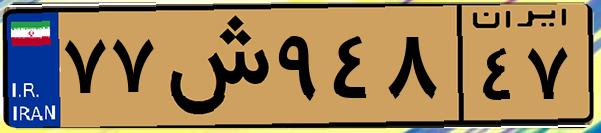4: (330, 28, 385, 110), (475, 38, 525, 113)
7: (57, 26, 110, 100), (525, 38, 570, 115), (110, 28, 158, 98)
8: (385, 28, 445, 110)
9: (270, 28, 330, 110)
ش: (158, 12, 270, 120)
